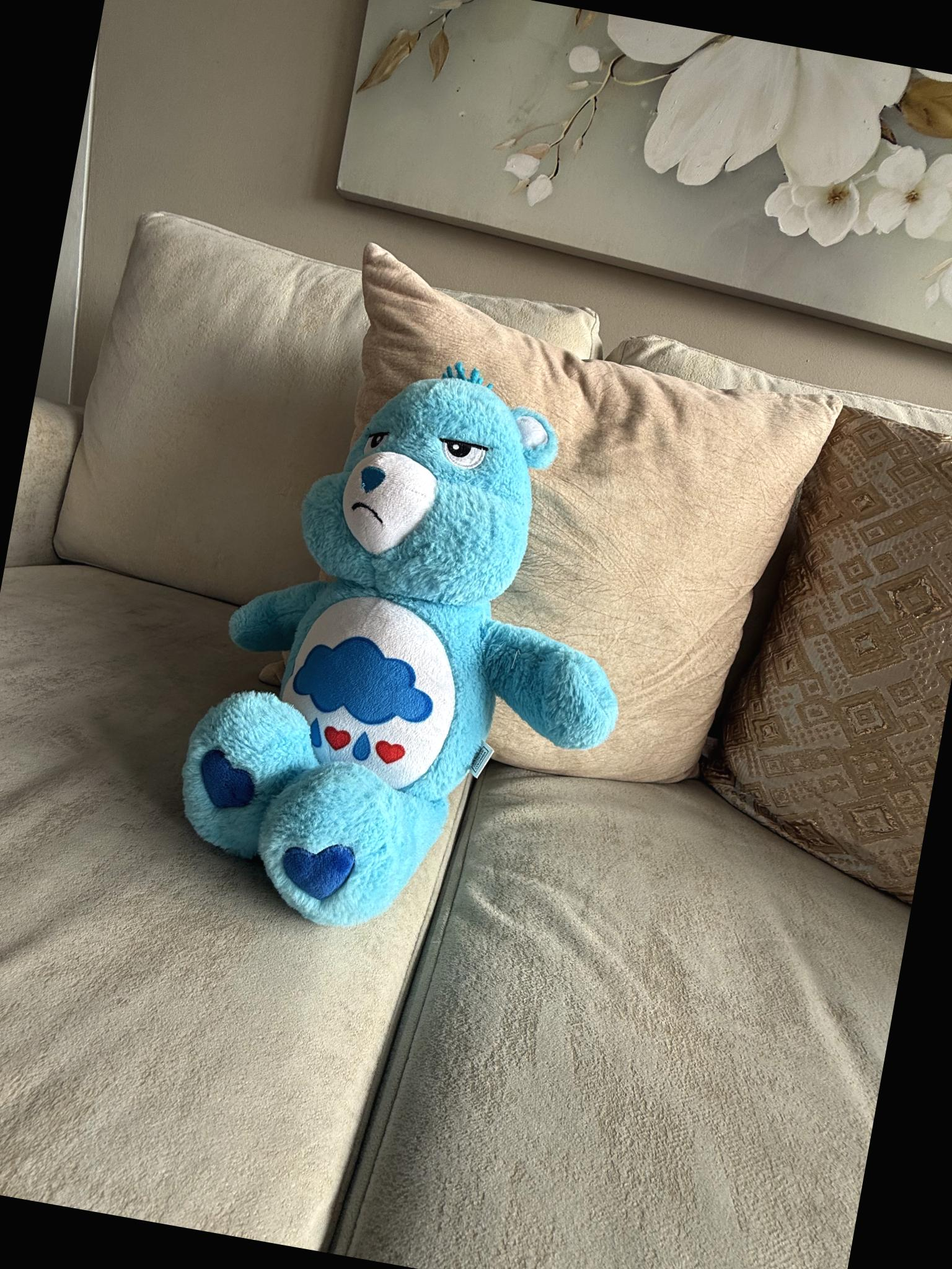peluche_Juan Jose: (215, 339, 572, 950)
